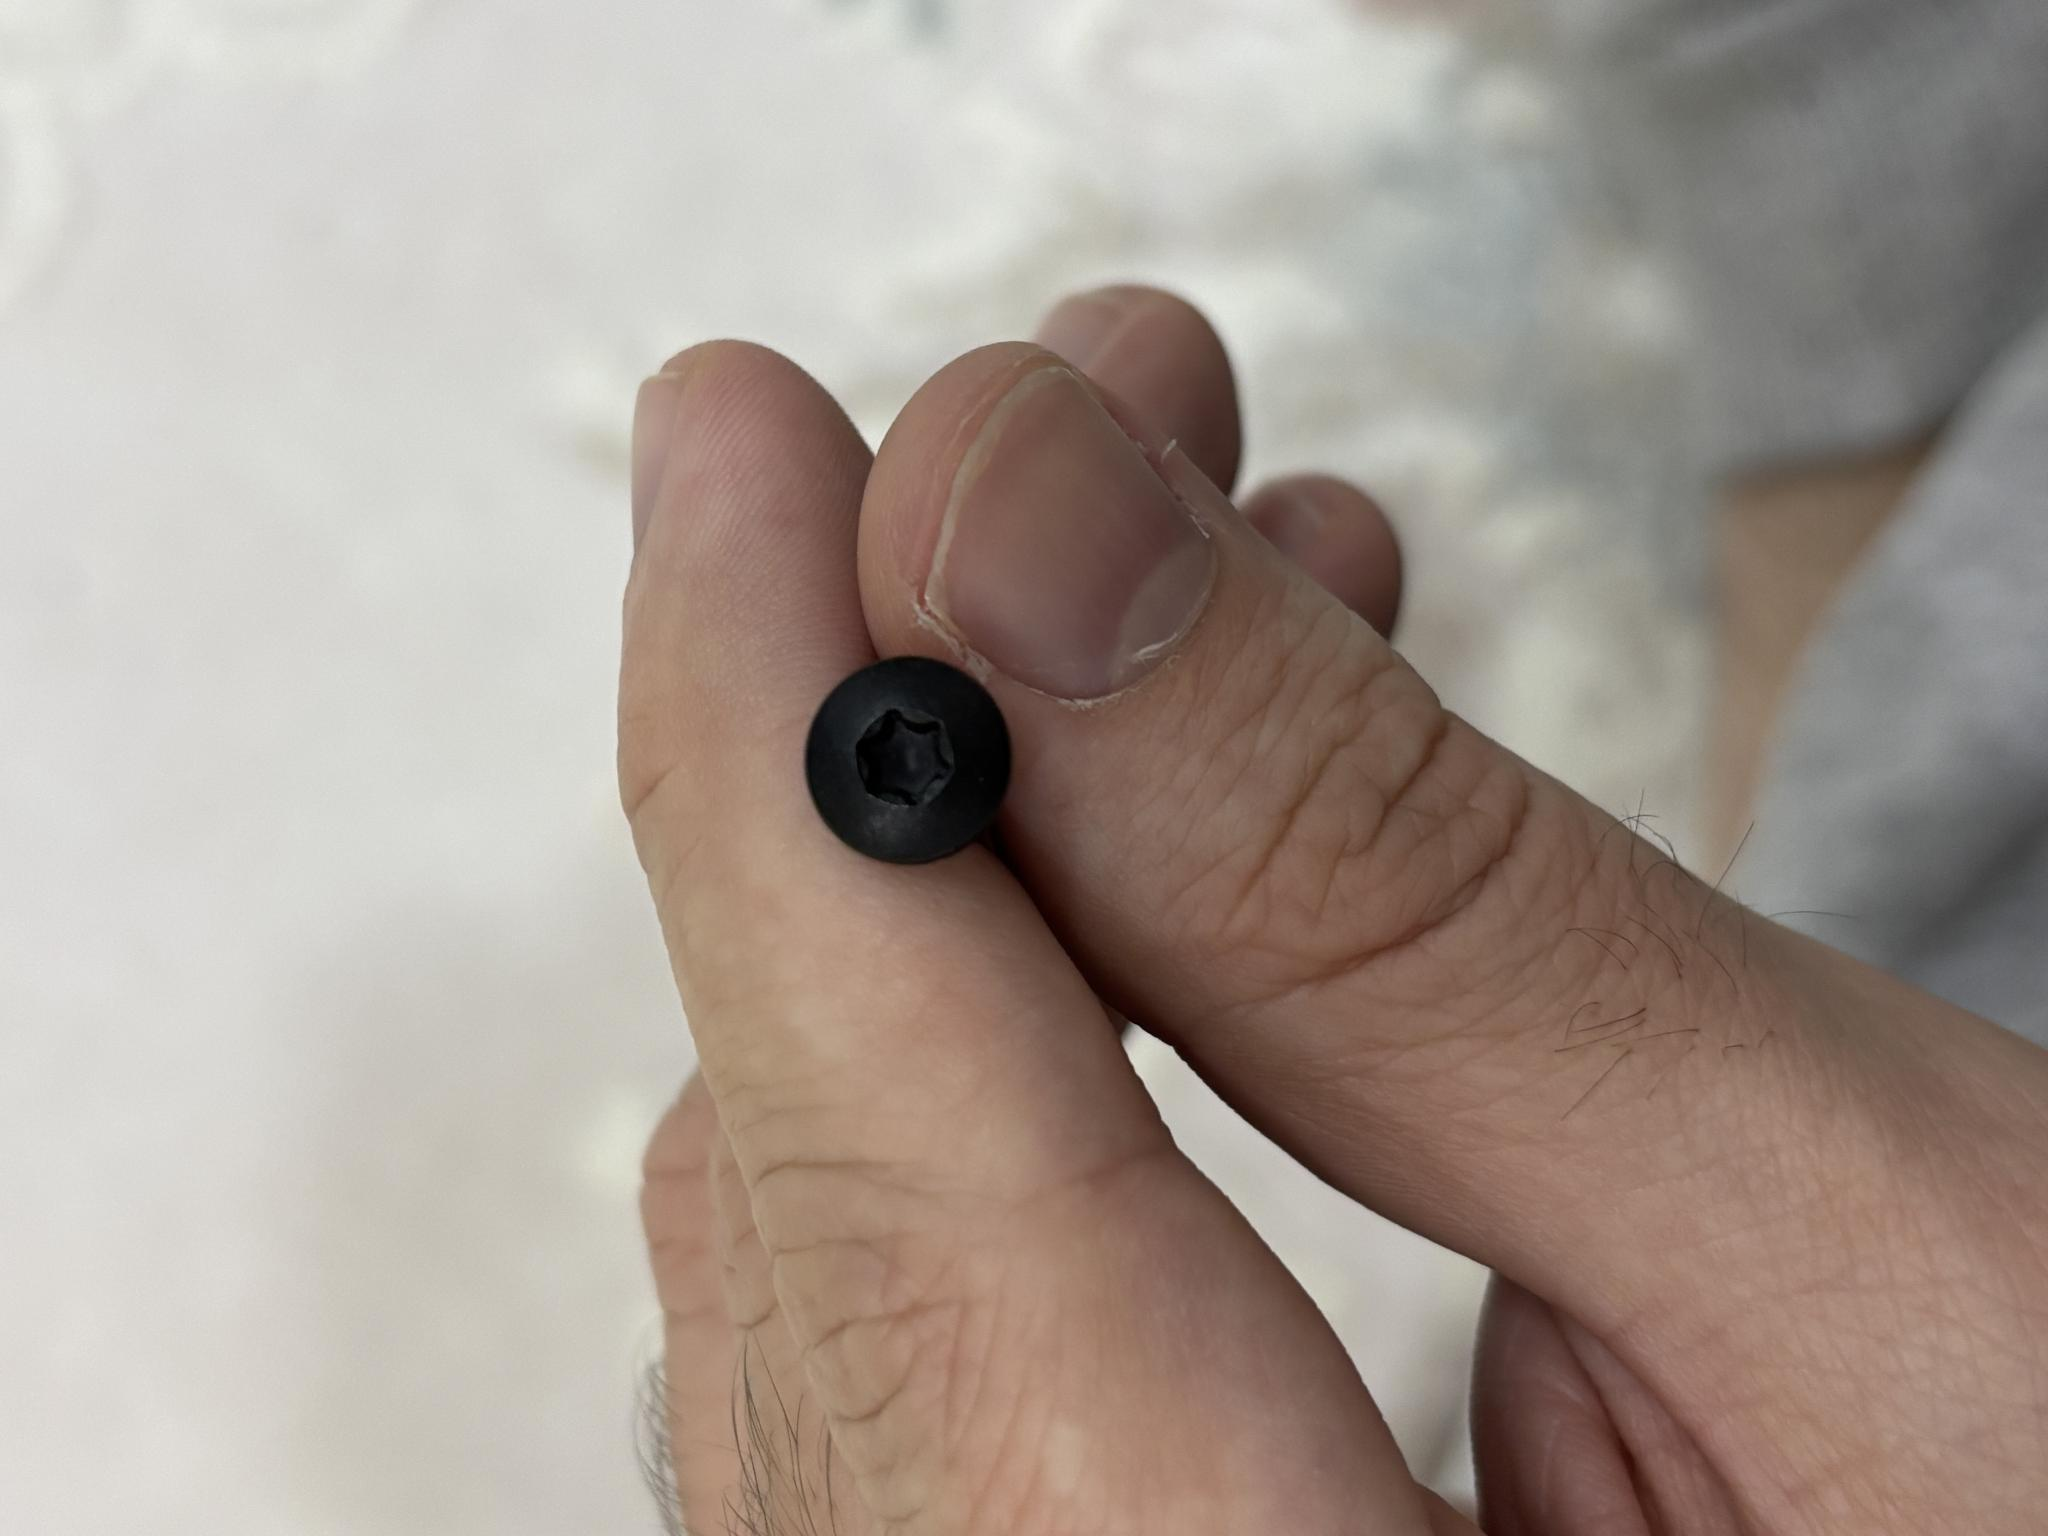H: (671, 805, 879, 1010)
